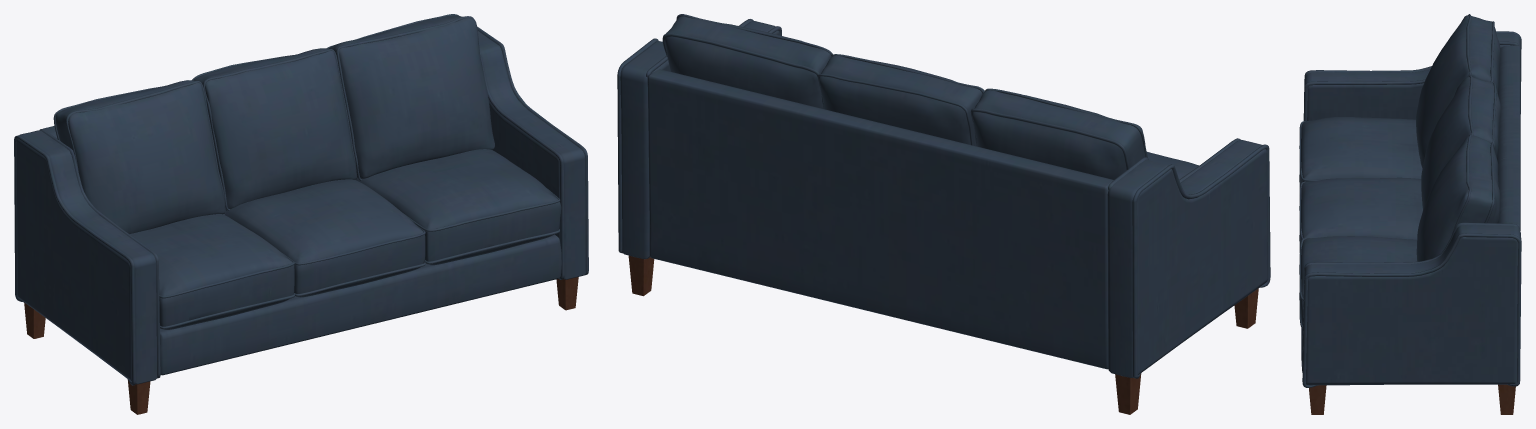
3 views of the same model, side by side, from view 1: azimuth 30°, elevation 25°; view 2: azimuth 150°, elevation 25°; view 3: azimuth 270°, elevation 25° (orthographic). The views are drawn at different scales.
Parts seen in each view (by area): view 1: RootNode; view 2: RootNode; view 3: RootNode.
Boxes of the visible parts, left/top/right/bottom form: RootNode: left=14, top=14, right=588, bottom=414; RootNode: left=617, top=14, right=1270, bottom=414; RootNode: left=1299, top=14, right=1521, bottom=414.
Bounding box in the file's own units: 1.99 × 0.9737 × 0.9114.
1 material, 1 textured.
